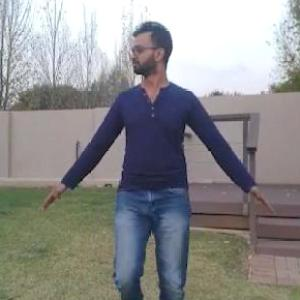land: (37, 13, 276, 299)
